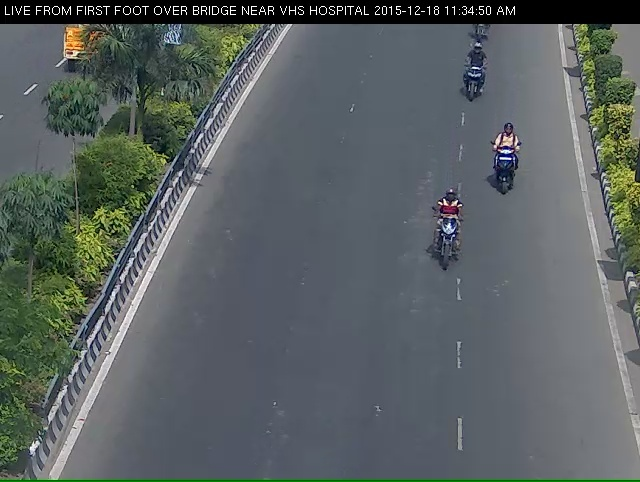Person: (421, 186, 478, 303), (487, 137, 534, 212), (463, 57, 493, 116), (467, 21, 496, 60)
